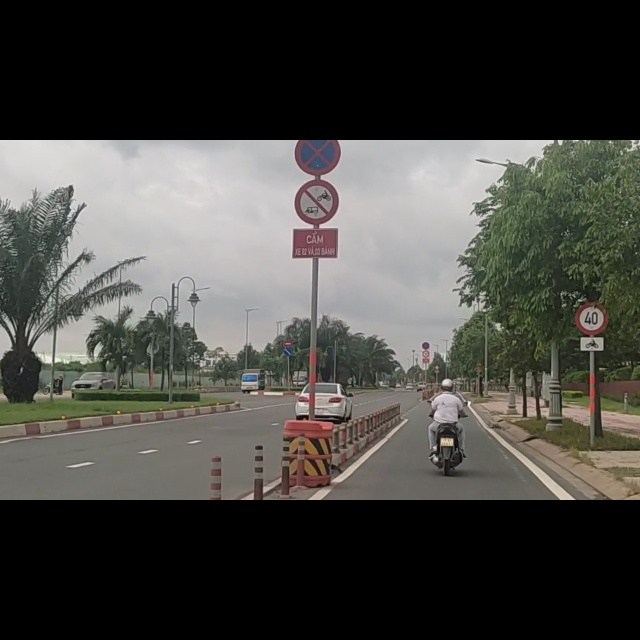bien_cam: (293, 66, 339, 153), (576, 288, 607, 346), (579, 346, 605, 375)
